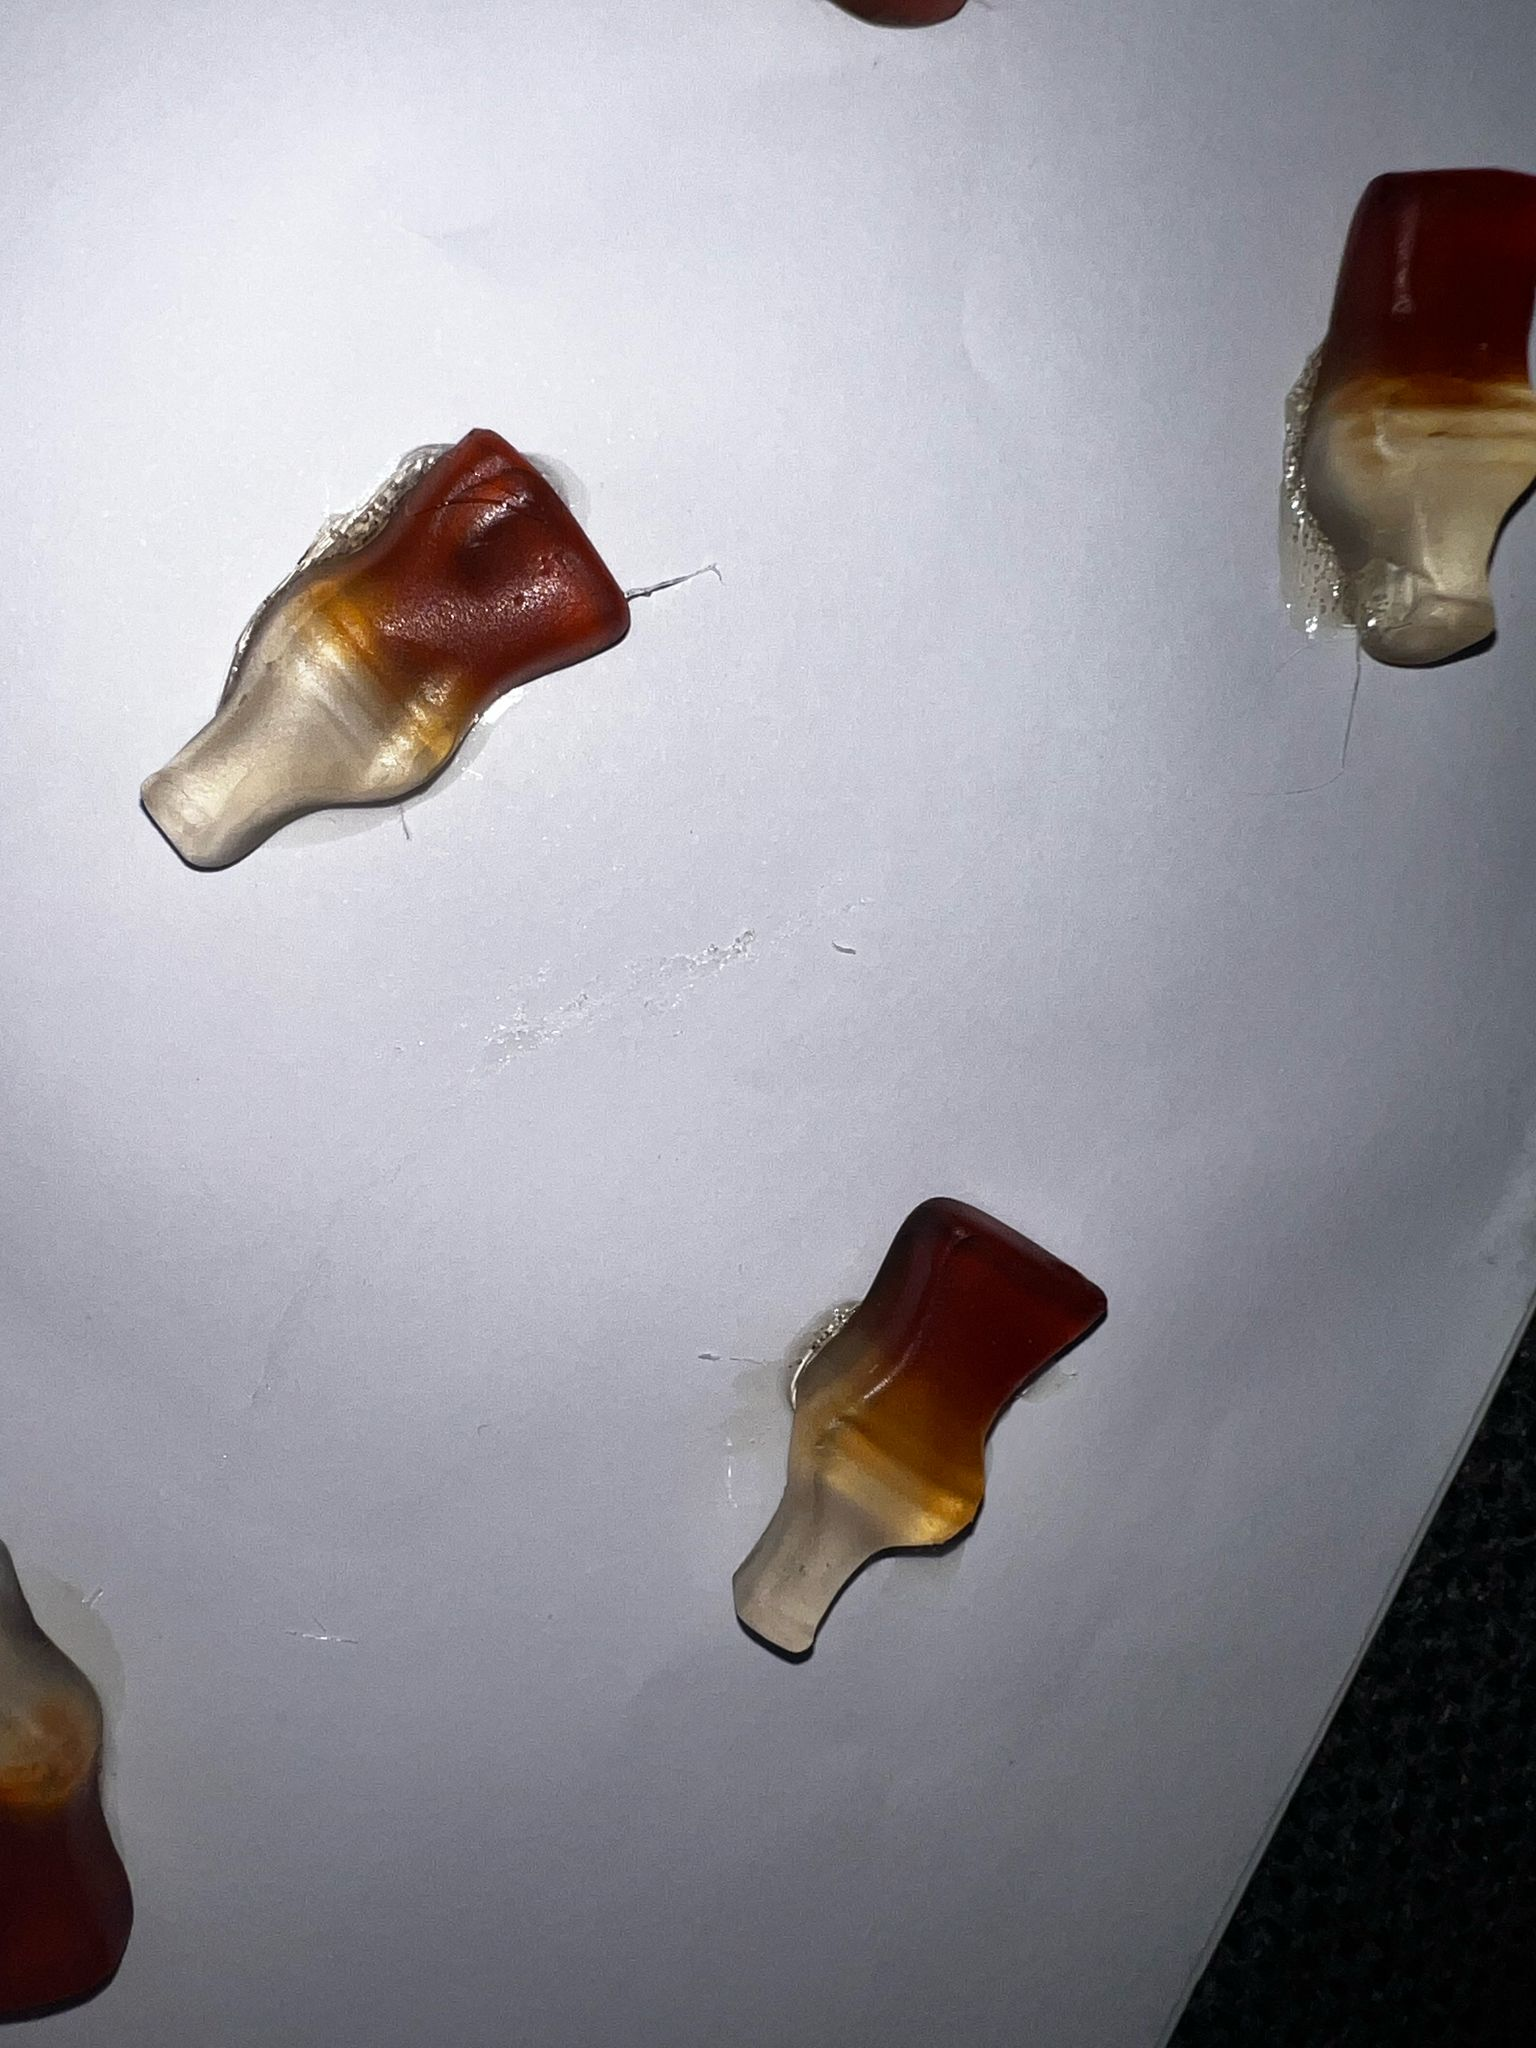cola: (127, 406, 641, 889), (724, 1172, 1123, 1669), (1291, 131, 1536, 684)
